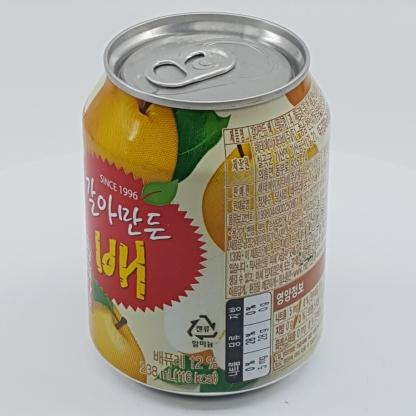-------238ML: (82, 12, 331, 396)
